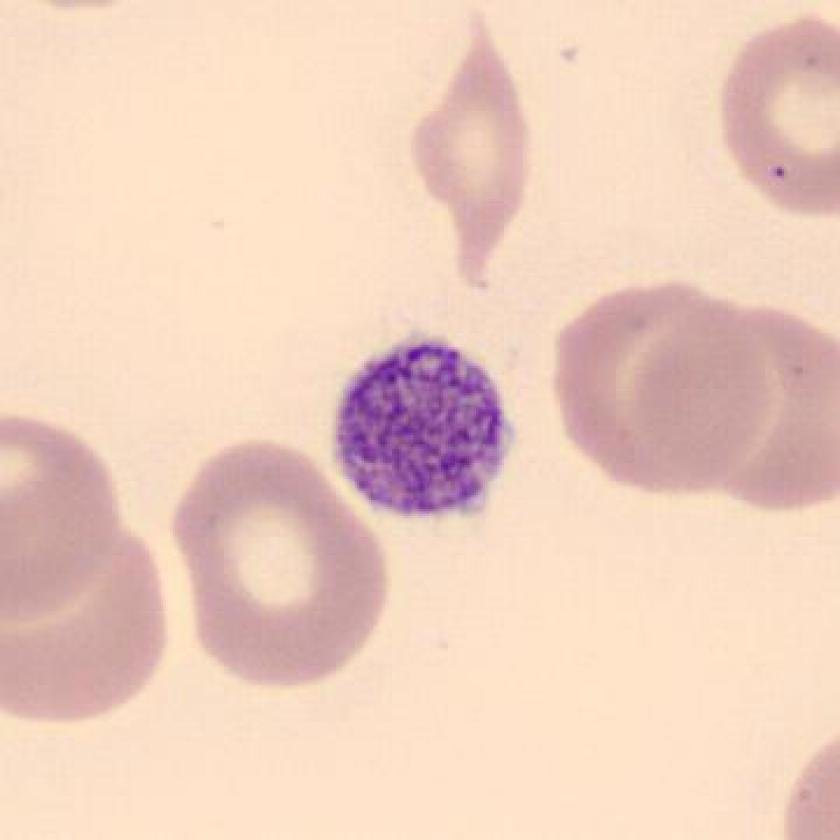platelets: (318, 318, 531, 536)
